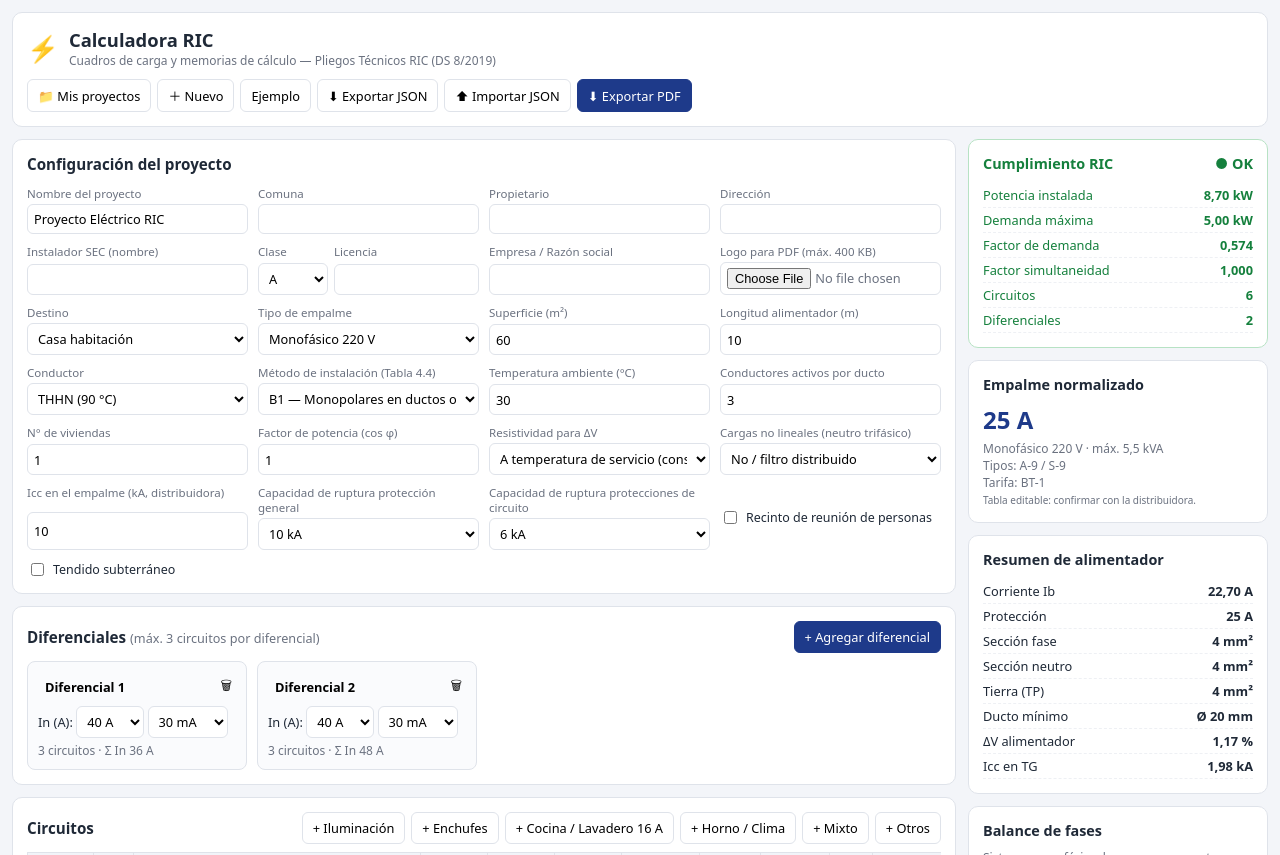
Test: App › agregar un 4.º circuito al Diferencial 1 genera el hallazgo 5.1.3.7
This screenshot has width=1280, height=855.
Click the button "+ Iluminación".
click(354, 828)  # box [302,812,405,844]
(page scrolled)
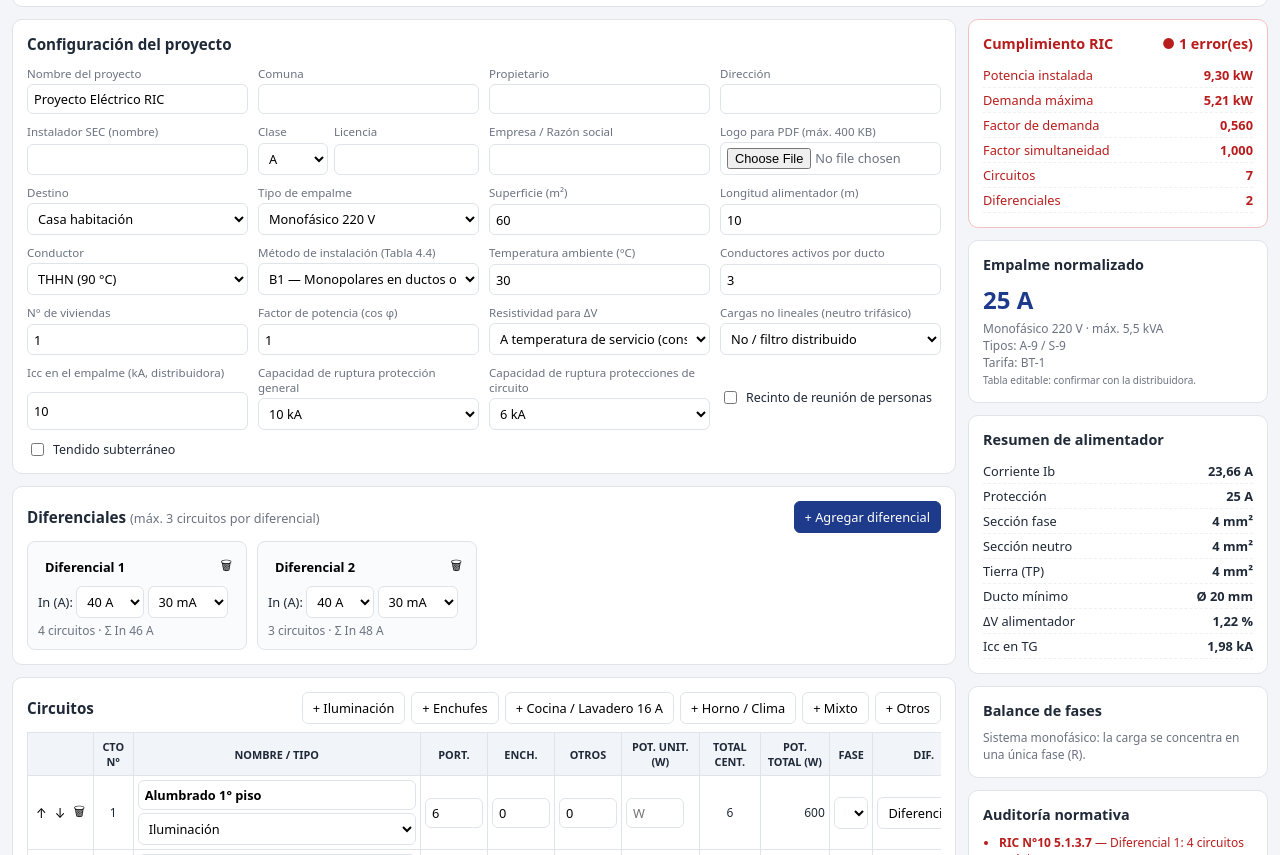
Expected: the element with test id "panel-resumen" shows "RIC N°10 5.1.3.7", [999,834,1092,851]
